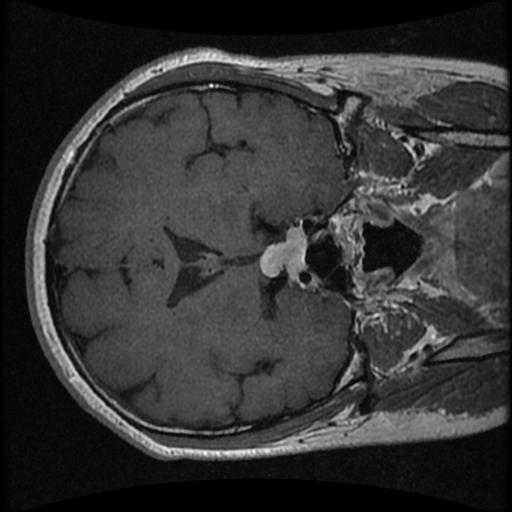pituitary tumour: (259, 227, 307, 281)
